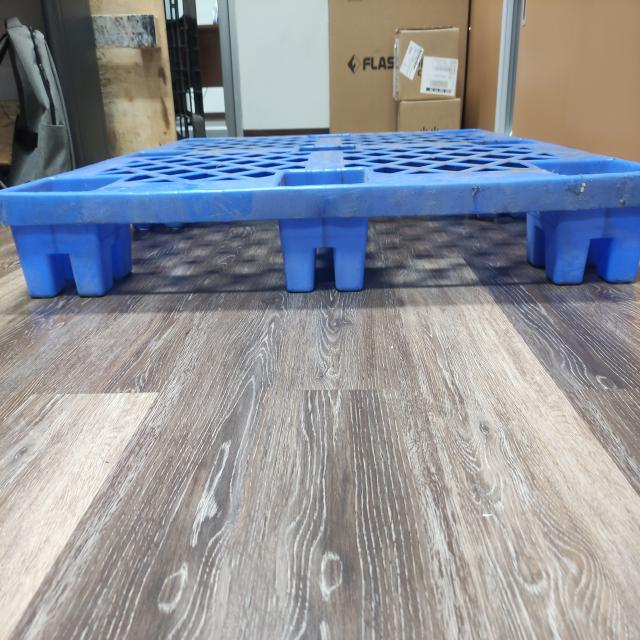block: (9, 223, 108, 298), (276, 217, 369, 294), (556, 209, 640, 292)
front: (3, 167, 640, 299)
